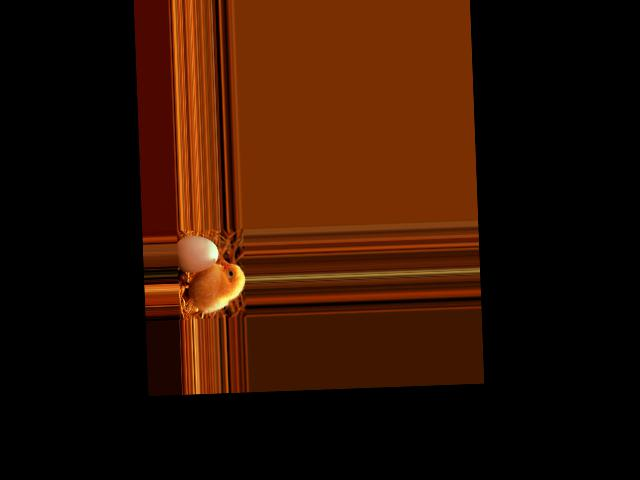egg: (175, 235, 219, 273)
